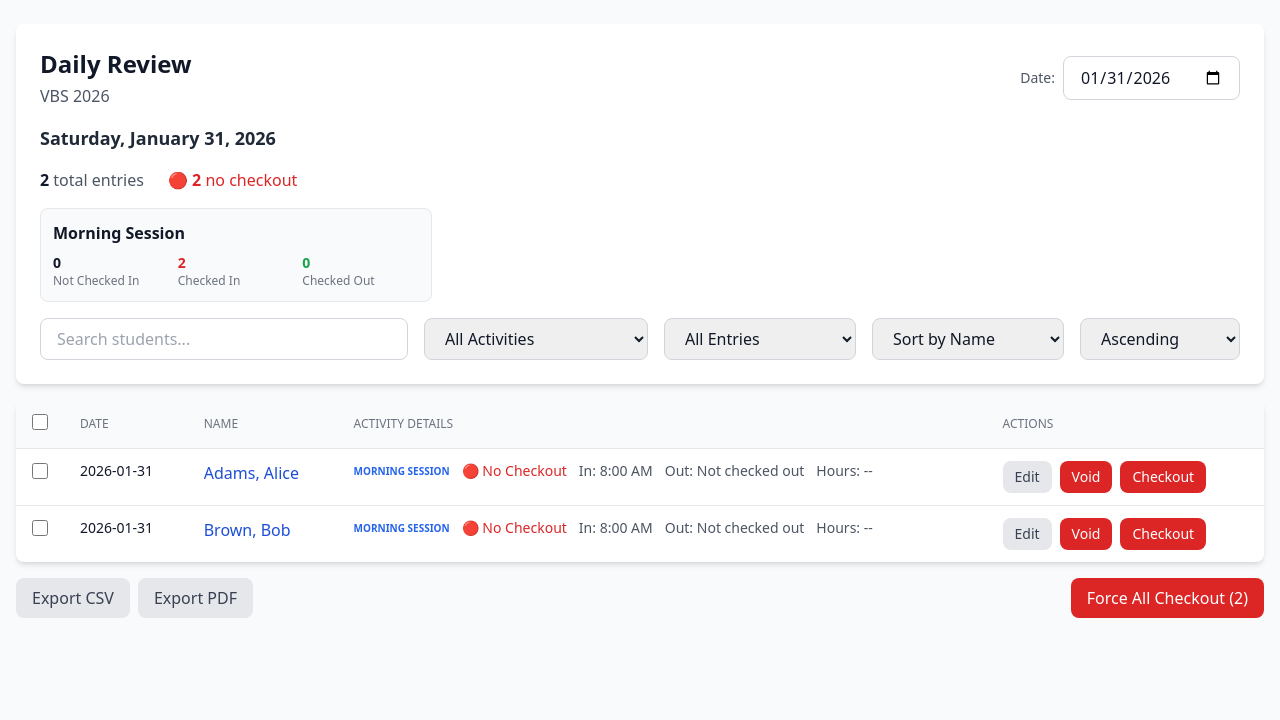
Test: DailyReview Bulk Selection › should clear selection when clear selection is clicked
Click the checkbox named "Select all entries" at (40,422), box top-left (32, 414), bottom-right (48, 430)
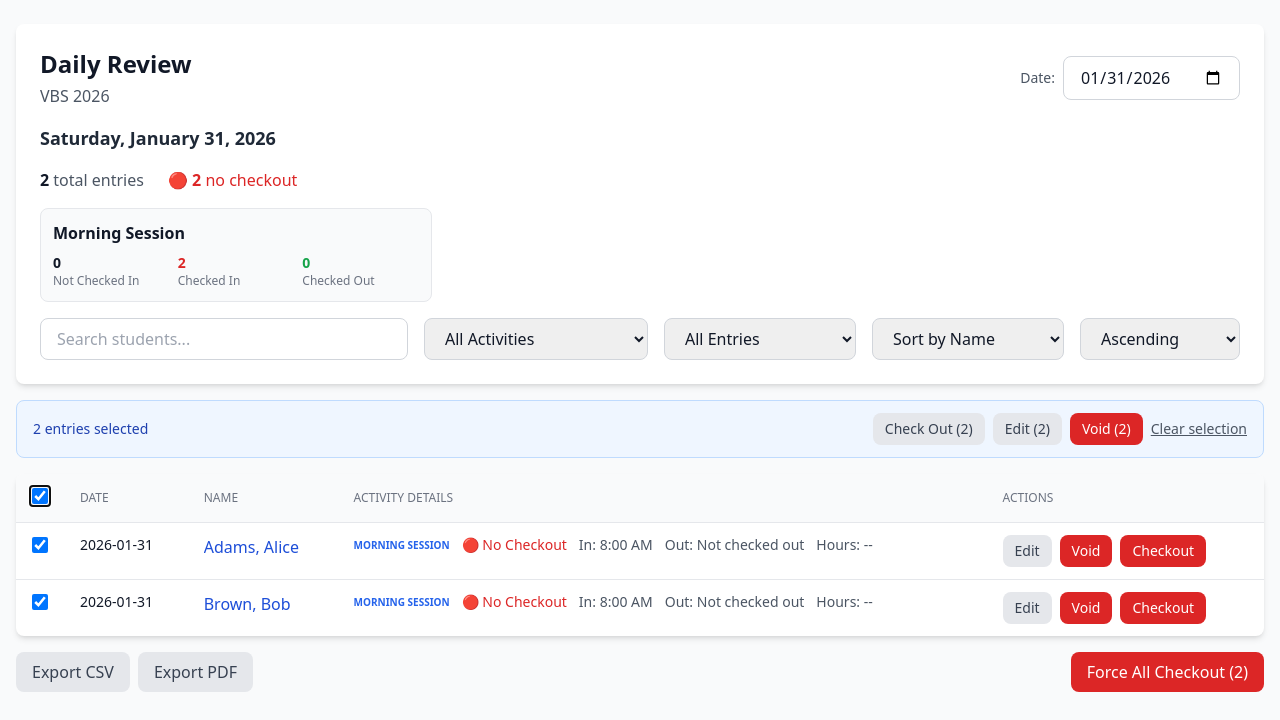
Check: the text "2 entries selected" is shown, box top-left (33, 419), bottom-right (148, 439)
Click the button "Clear selection" at (1199,429), box top-left (1151, 419), bottom-right (1247, 439)
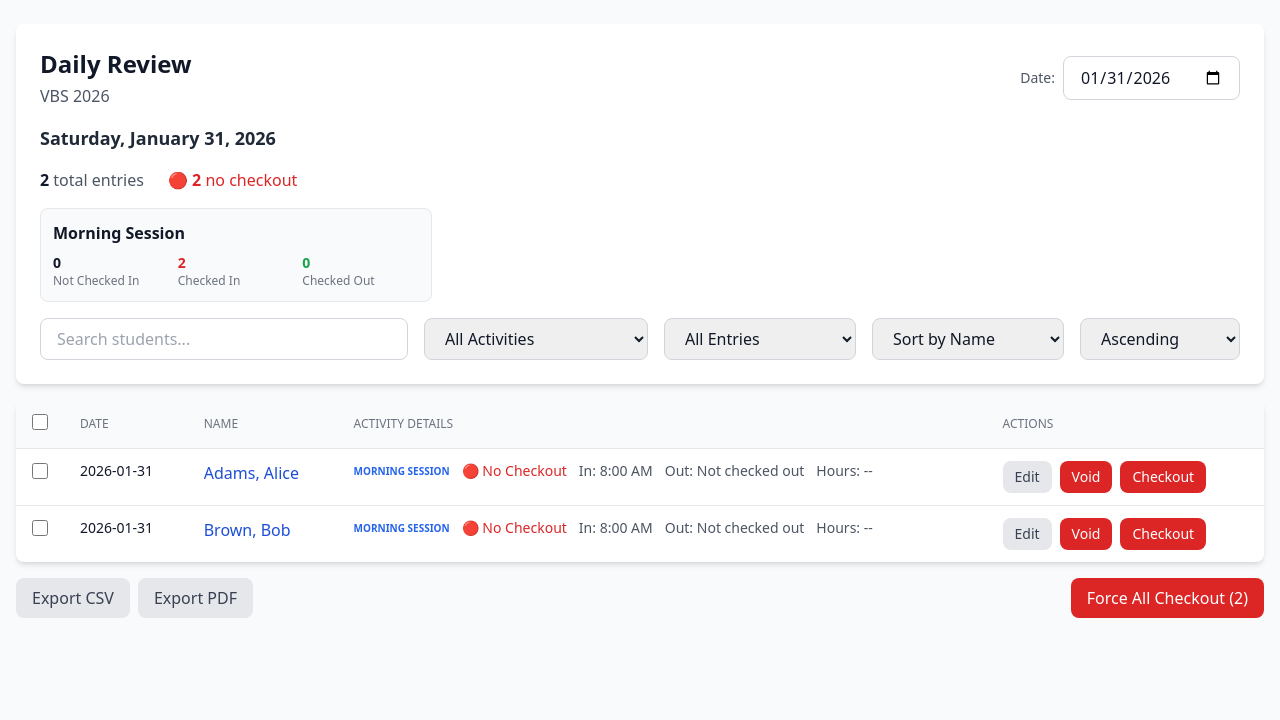
Check: the text "2 entries selected" is gone
